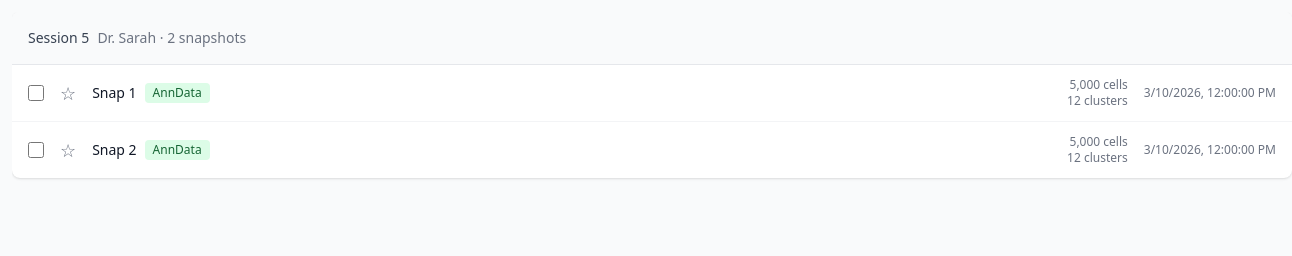
SnapshotTimeline › Compare Selected button appears when 2+ snapshots are selected
Expected: the text "Snap 1" is shown, 92,83 -> 137,103
Click the checkbox named "Select snapshot Snap 1": coordinates (36, 93) 28,85 -> 44,101
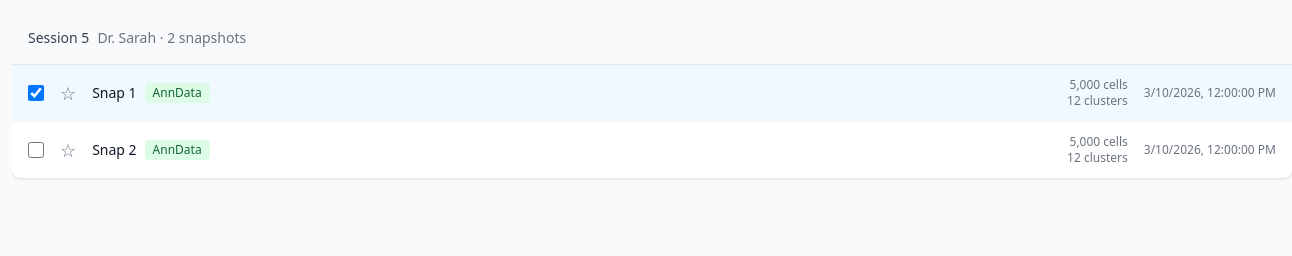
Click the checkbox named "Select snapshot Snap 2": coordinates (36, 150) 28,142 -> 44,158
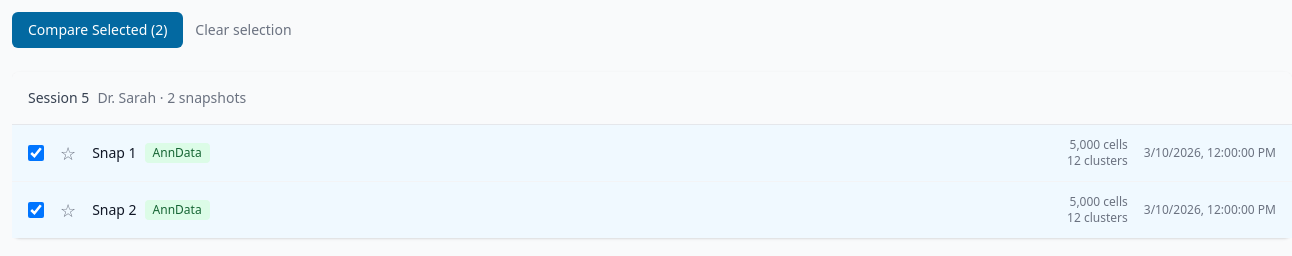
Now the button "Compare Selected (2)" is shown, box 12,12 -> 183,48
